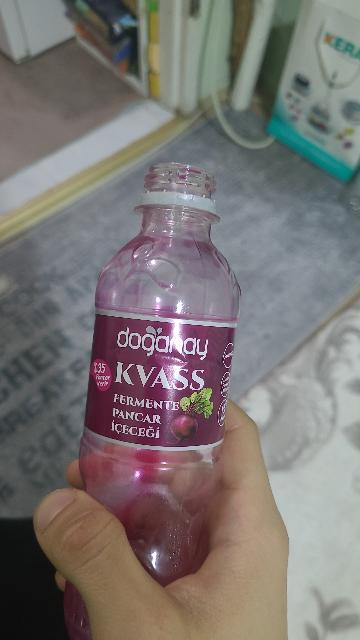Kagit: (265, 0, 360, 184)
Plastik: (83, 158, 244, 584)
